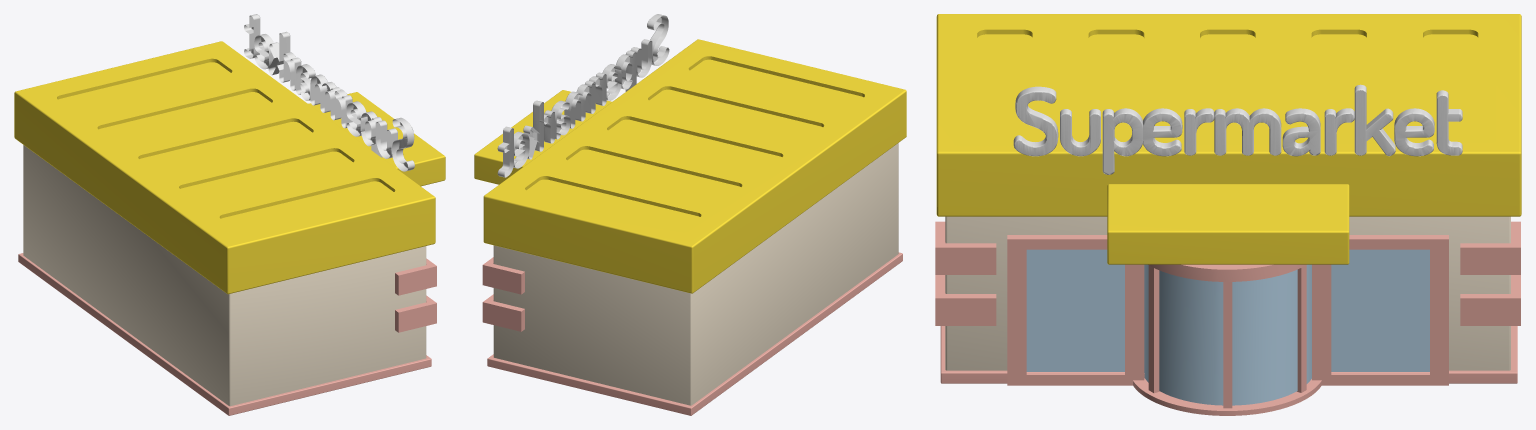
File: supermarket.glb
3 renders of one model, left to right at view 1: azimuth 30°, elevation 25°; view 2: azimuth 150°, elevation 25°; view 3: azimuth 270°, elevation 25°, orthographic. The views are drawn at different scales.
Parts seen in each view (by area): view 1: Object_4, Object_5, Object_3, Object_2; view 2: Object_4, Object_5, Object_2, Object_3; view 3: Object_4, Object_6, Object_2, Object_5, Object_3.
Boxes of the visible parts, left/top/right/bottom form: Object_4: left=14, top=41, right=445, bottom=294; Object_5: left=23, top=145, right=426, bottom=406; Object_3: left=244, top=14, right=414, bottom=171; Object_2: left=18, top=253, right=436, bottom=415; Object_4: left=474, top=39, right=906, bottom=293; Object_5: left=493, top=143, right=898, bottom=405; Object_2: left=482, top=252, right=902, bottom=415; Object_3: left=497, top=14, right=669, bottom=177; Object_4: left=936, top=14, right=1521, bottom=264; Object_6: left=1026, top=249, right=1429, bottom=405; Object_2: left=935, top=221, right=1520, bottom=415; Object_5: left=945, top=216, right=1510, bottom=370; Object_3: left=1013, top=84, right=1462, bottom=174.
Bounding box in the file's own units: 542 × 405 × 715.
